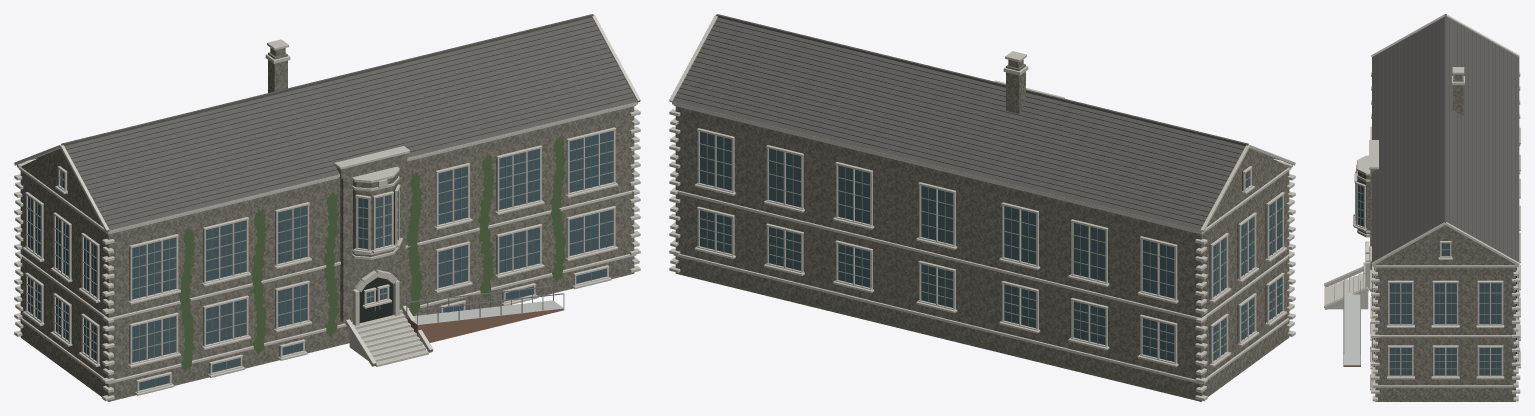
The picture shows the model from 3 angles, left to right: view 1: azimuth 30°, elevation 25°; view 2: azimuth 150°, elevation 25°; view 3: azimuth 270°, elevation 25°; orthographic projection. The views are drawn at different scales.
Parts seen in each view (by area): view 1: roof__roof, main_masonry__stone, roof_tile_courses__roofline, front_upper_windows__glass, ivy_irregular_patches__ivy, front_lower_windows__glass, front_upper_windows__trim, stringcourses__trim, front_lower_windows__trim, central_entrance_risalit__stone, end_windows__trim, corner_dressed_stone__trim (+25 smaller); view 2: main_masonry__stone, roof__roof, rear_windows_estimated__glass, roof_tile_courses__roofline, rear_windows_estimated__trim, stringcourses__trim, rear_windows_estimated__frame, end_windows__trim, corner_dressed_stone__trim, end_windows__glass, roof_ridge__roof, stone_gable_ends__stone (+5 smaller); view 3: roof__roof, main_masonry__stone, roof_tile_courses__roofline, end_windows__glass, end_windows__trim, stone_gable_ends__stone, corner_dressed_stone__trim, stringcourses__trim, entry_access_ramp_surface__concrete, gable_copings__trim, entry_steps__trim, end_windows__frame (+12 smaller).
Boxes of the visible parts, x1,y1,x2,y2 form: roof__roof: [30, 17, 637, 230]; main_masonry__stone: [20, 106, 634, 401]; roof_tile_courses__roofline: [66, 20, 634, 225]; front_upper_windows__glass: [132, 131, 613, 299]; ivy_irregular_patches__ivy: [178, 136, 566, 372]; front_lower_windows__glass: [132, 209, 613, 362]; front_upper_windows__trim: [128, 127, 618, 304]; stringcourses__trim: [18, 105, 636, 384]; front_lower_windows__trim: [128, 206, 618, 367]; central_entrance_risalit__stone: [340, 163, 405, 322]; end_windows__trim: [22, 192, 100, 367]; corner_dressed_stone__trim: [14, 109, 640, 401]; main_masonry__stone: [675, 106, 1289, 401]; roof__roof: [672, 17, 1279, 230]; rear_windows_estimated__glass: [700, 131, 1174, 361]; roof_tile_courses__roofline: [675, 20, 1243, 225]; rear_windows_estimated__trim: [694, 128, 1178, 367]; stringcourses__trim: [673, 105, 1291, 384]; rear_windows_estimated__frame: [699, 133, 1174, 360]; end_windows__trim: [1209, 192, 1287, 367]; corner_dressed_stone__trim: [669, 109, 1295, 401]; end_windows__glass: [1213, 196, 1281, 360]; roof_ridge__roof: [716, 14, 1248, 146]; stone_gable_ends__stone: [1207, 148, 1288, 226]; roof__roof: [1372, 17, 1519, 262]; main_masonry__stone: [1375, 260, 1515, 401]; roof_tile_courses__roofline: [1375, 18, 1515, 259]; end_windows__glass: [1389, 283, 1501, 375]; end_windows__trim: [1386, 280, 1504, 379]; stone_gable_ends__stone: [1376, 225, 1514, 264]; corner_dressed_stone__trim: [1371, 72, 1520, 401]; stringcourses__trim: [1374, 265, 1517, 387]; entry_access_ramp_surface__concrete: [1343, 292, 1360, 365]; gable_copings__trim: [1371, 14, 1519, 265]; entry_steps__trim: [1324, 272, 1368, 309]; end_windows__frame: [1389, 283, 1501, 375].
Size of the model in its own units: 38.77 by 18.39 by 15.39.
11 materials, 1 textured.
